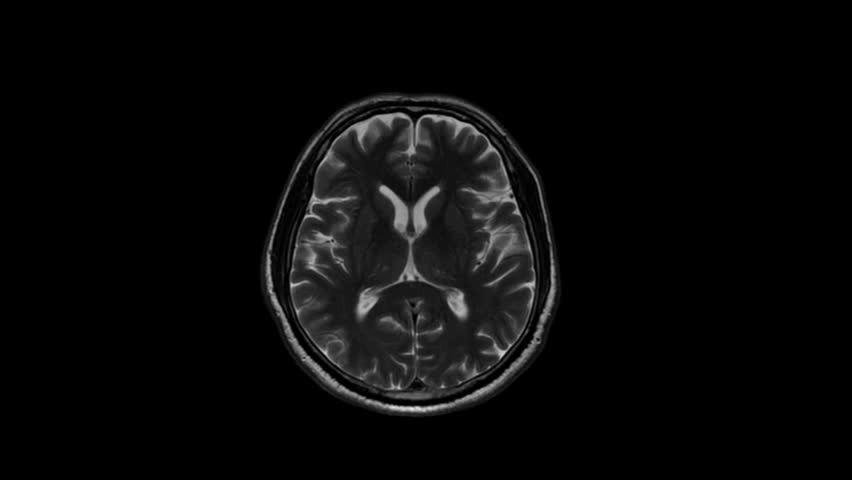Normal_Brain: (211, 58, 658, 444)
